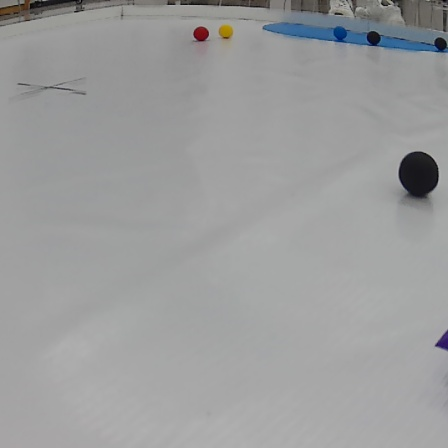black: (396, 150, 441, 199), (432, 35, 448, 54), (367, 29, 382, 47)
blue: (332, 26, 348, 39)
blue_base: (261, 21, 448, 59)
red: (190, 23, 212, 43)
yellow: (220, 25, 235, 38)
